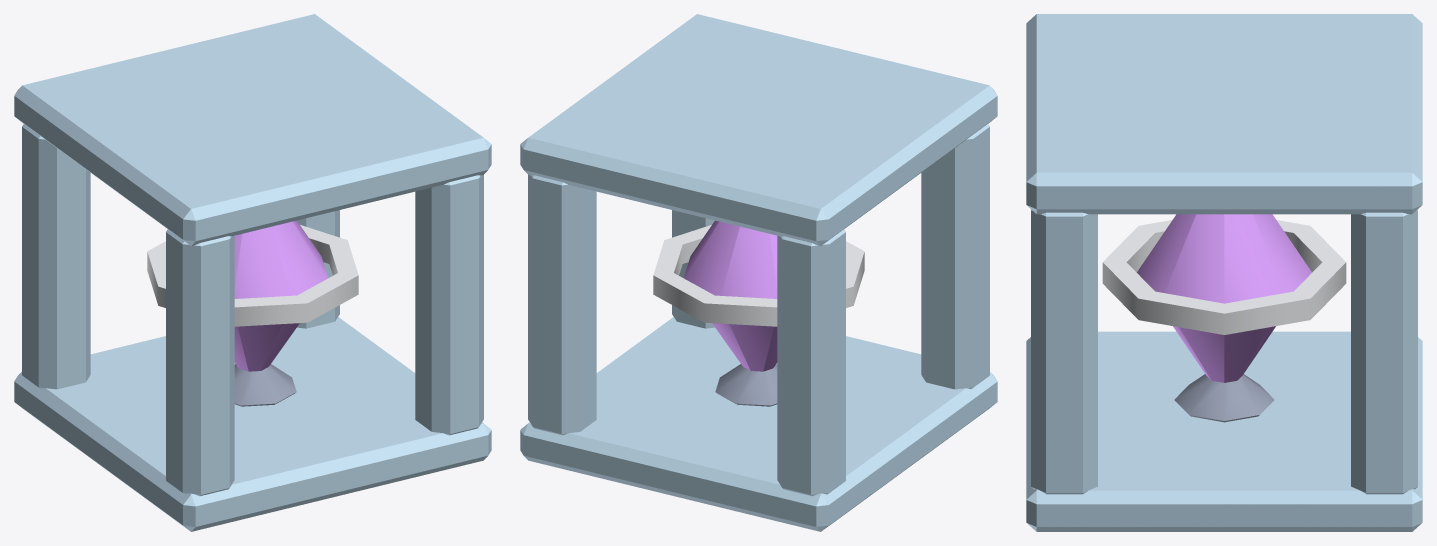
The model's file is R4X_CoreBooster_LOD1.glb.
3 views of the same model, side by side, from view 1: azimuth 30°, elevation 25°; view 2: azimuth 150°, elevation 25°; view 3: azimuth 270°, elevation 25° (orthographic). The views are drawn at different scales.
Visible parts, largest first — view 1: R4X_CoreBooster_LOD1; view 2: R4X_CoreBooster_LOD1; view 3: R4X_CoreBooster_LOD1.
Boxes of the visible parts, x1,y1,x2,y2 form: R4X_CoreBooster_LOD1: (14,14,491,531); R4X_CoreBooster_LOD1: (520,14,997,531); R4X_CoreBooster_LOD1: (1026,14,1422,531).
Bounding box in the file's own units: 0.52 × 0.52 × 0.52.
